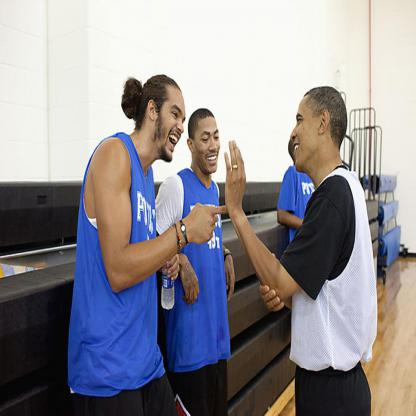face: (159, 79, 187, 161), (292, 88, 321, 166), (196, 114, 221, 173)
